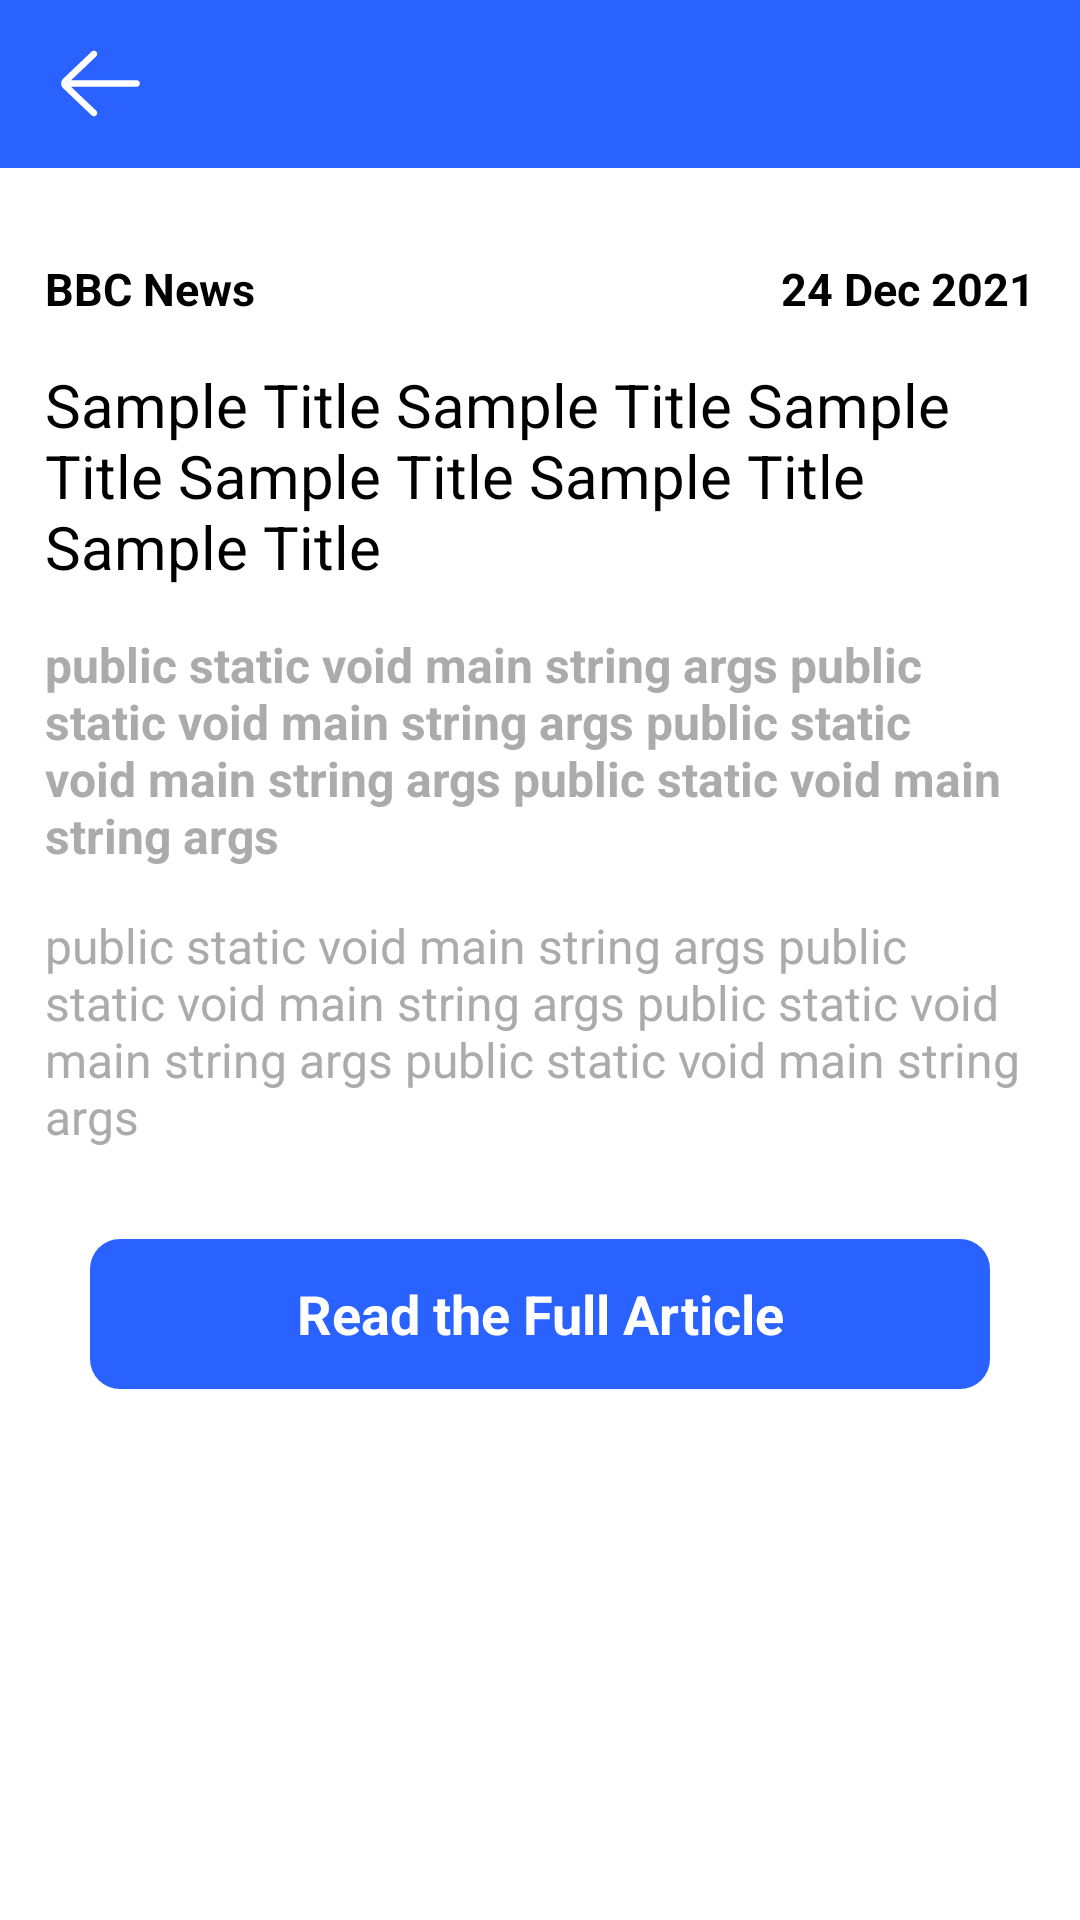

Named icons in this screenshot (1080×1920) and their centers, (x=x, y=y):
arrow left: (x=100, y=83)
